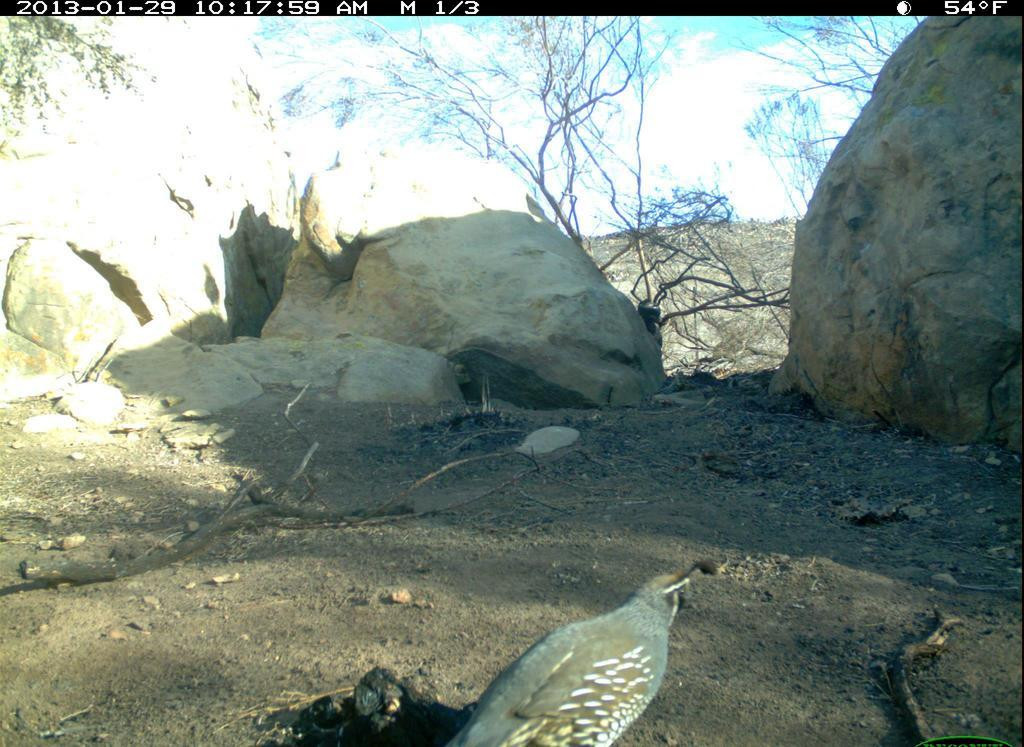bird: (438, 555, 720, 747)
